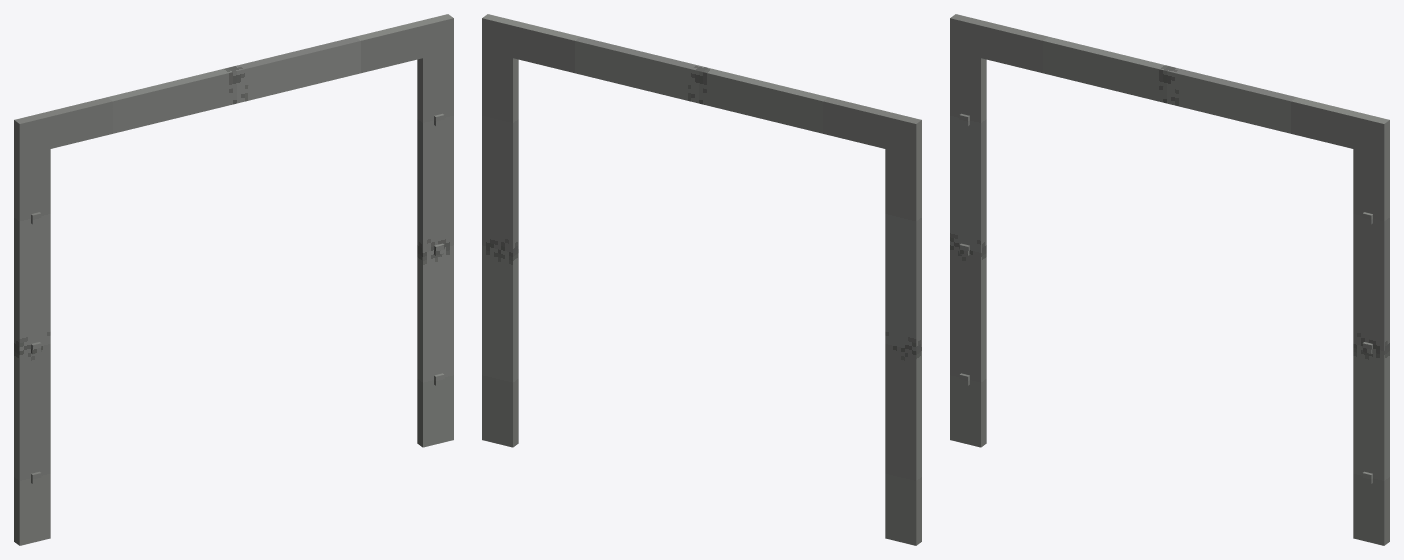
File: ir_seal_jamb.glb
3 renders of one model, left to right at view 1: azimuth 30°, elevation 25°; view 2: azimuth 150°, elevation 25°; view 3: azimuth 330°, elevation 25°, orthographic.
Visible parts, largest first — view 1: ir_seal_jamb; view 2: ir_seal_jamb; view 3: ir_seal_jamb.
Boxes of the visible parts, left/top/right/bottom form: ir_seal_jamb: left=14, top=14, right=453, bottom=545; ir_seal_jamb: left=482, top=14, right=921, bottom=545; ir_seal_jamb: left=950, top=14, right=1389, bottom=545.
Bounding box in the file's own units: 3.5 × 3.25 × 0.105.
1 material, 1 textured.
